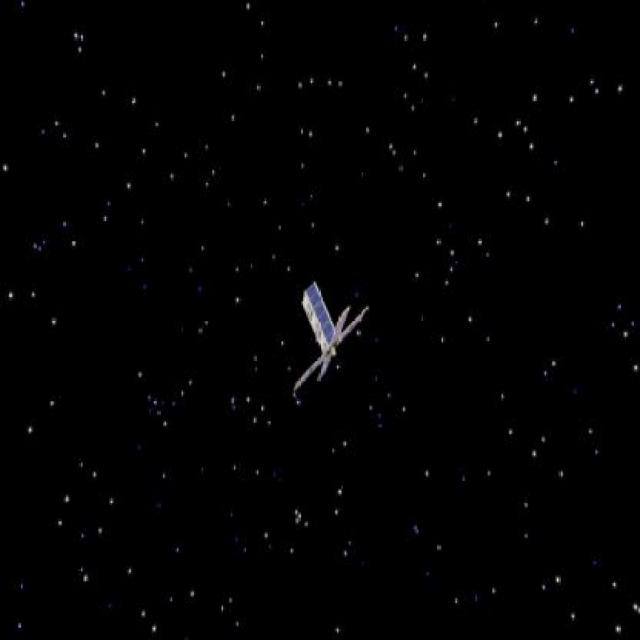medium_debris: (277, 265, 381, 404)
